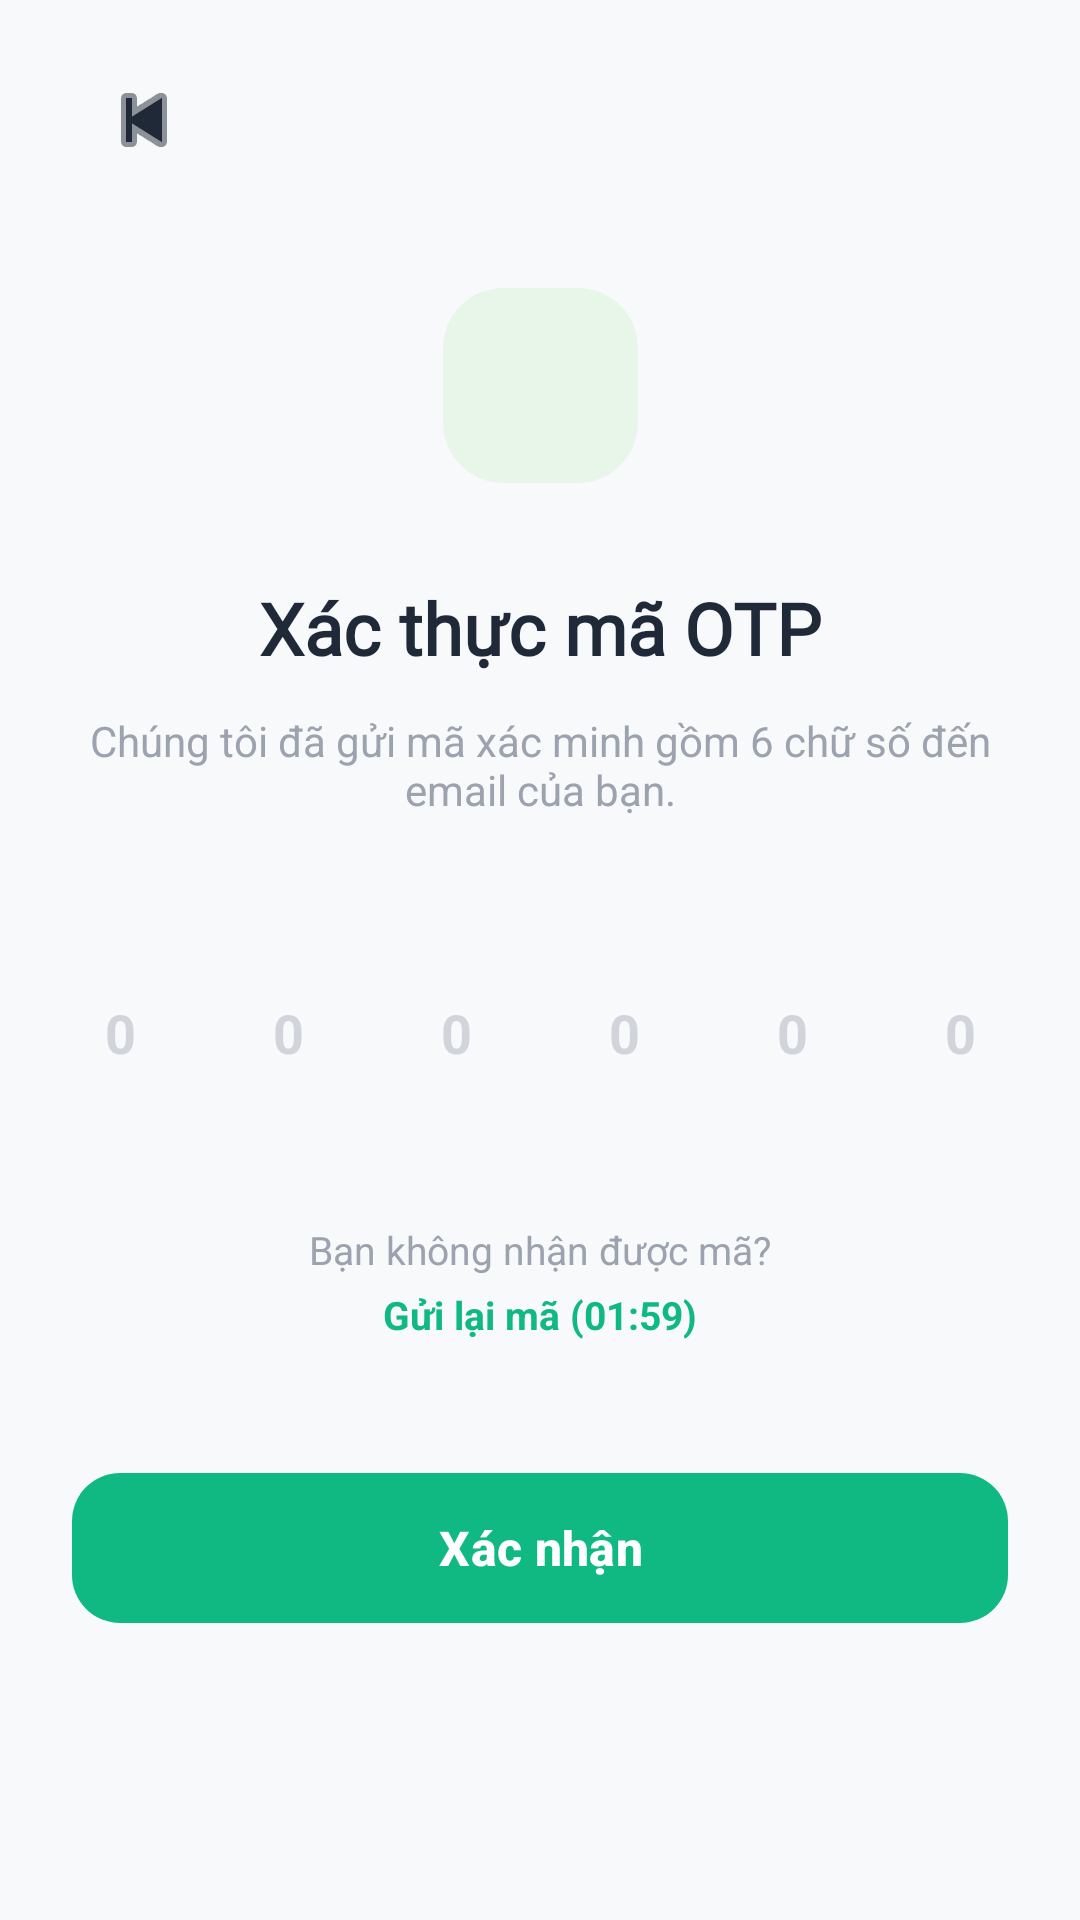

Named icons in this screenshot (1080 × 1920) and their bounding boxes, (x1, y1, x2, y2):
Quay lại: (121, 93, 167, 147)
